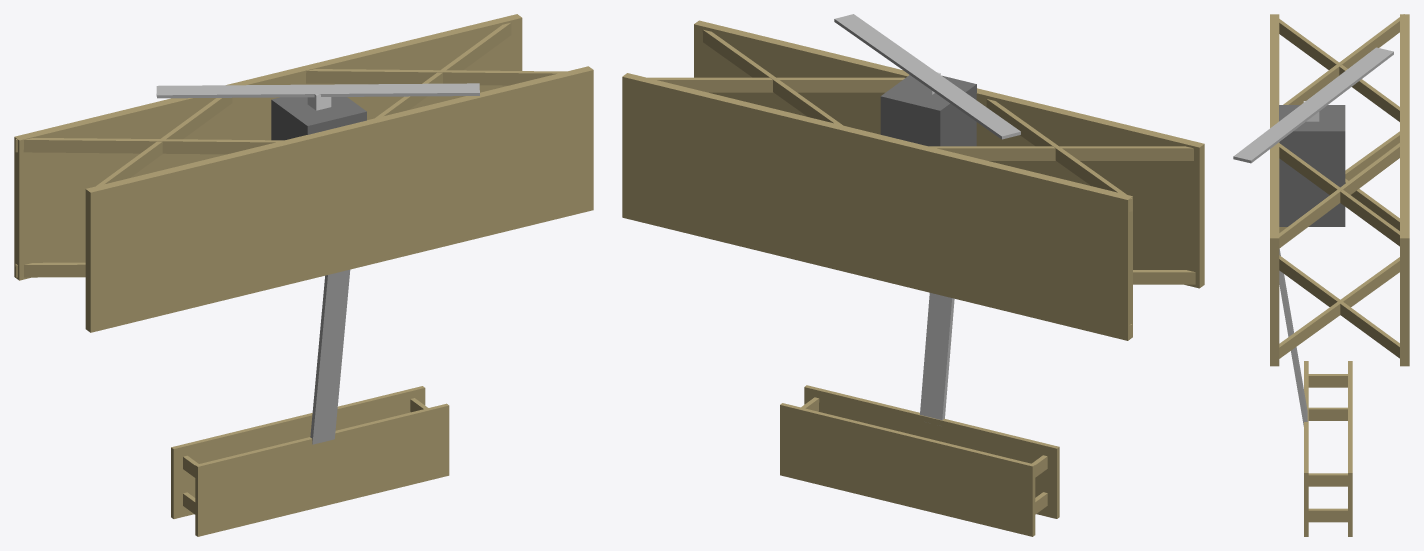
3 renders of one model, left to right at view 1: azimuth 30°, elevation 25°; view 2: azimuth 150°, elevation 25°; view 3: azimuth 270°, elevation 25°, orthographic. The views are drawn at different scales.
Parts seen in each view (by area): view 1: Cube.002, Cube, Cube.011, Cube.012, Cube.010, Cube.018, Cube.008, Cube.007, Cube.017, Cube.009, Cube.006, Cube.005; view 2: Cube, Cube.002, Cube.012, Cube.011, Cube.017, Cube.018, Cube.009, Cube.006, Cube.010, Cube.007, Cube.008, Cube.003; view 3: Cube.017, Cube, Cube.002, Cube.018, Cube.007, Cube.004, Cube.001, Cube.006, Cube.009, Cube.008, Cube.010, Cube.012 (+7 smaller).
Boxes of the visible parts, bbox=[...] form: Cube.002: bbox=[85, 66, 593, 332]; Cube: bbox=[14, 14, 522, 280]; Cube.011: bbox=[195, 403, 449, 536]; Cube.012: bbox=[171, 386, 425, 518]; Cube.010: bbox=[310, 269, 350, 444]; Cube.018: bbox=[156, 83, 479, 98]; Cube.008: bbox=[15, 138, 283, 154]; Cube.007: bbox=[306, 69, 566, 85]; Cube.017: bbox=[271, 97, 366, 140]; Cube.009: bbox=[96, 98, 232, 186]; Cube.006: bbox=[375, 23, 511, 118]; Cube.005: bbox=[15, 262, 85, 277]; Cube: bbox=[622, 73, 1132, 340]; Cube.002: bbox=[694, 20, 1204, 288]; Cube.012: bbox=[780, 403, 1035, 536]; Cube.011: bbox=[804, 385, 1059, 518]; Cube.017: bbox=[880, 75, 976, 146]; Cube.018: bbox=[834, 14, 1020, 139]; Cube.009: bbox=[929, 146, 1193, 160]; Cube.006: bbox=[647, 77, 904, 92]; Cube.010: bbox=[920, 293, 954, 420]; Cube.007: bbox=[702, 30, 842, 125]; Cube.008: bbox=[986, 99, 1132, 211]; Cube.003: bbox=[1133, 270, 1195, 284]; Cube.017: bbox=[1279, 105, 1345, 226]; Cube: bbox=[1400, 14, 1409, 366]; Cube.002: bbox=[1270, 14, 1279, 366]; Cube.018: bbox=[1233, 47, 1393, 163]; Cube.007: bbox=[1279, 143, 1399, 248]; Cube.004: bbox=[1279, 257, 1399, 358]; Cube.001: bbox=[1279, 255, 1399, 358]; Cube.006: bbox=[1279, 143, 1399, 246]; Cube.009: bbox=[1279, 19, 1399, 121]; Cube.008: bbox=[1283, 14, 1404, 104]; Cube.010: bbox=[1279, 249, 1307, 426]; Cube.012: bbox=[1348, 361, 1352, 536].
Bounding box in the file's own units: 6.78 × 2.25 × 5.3.
